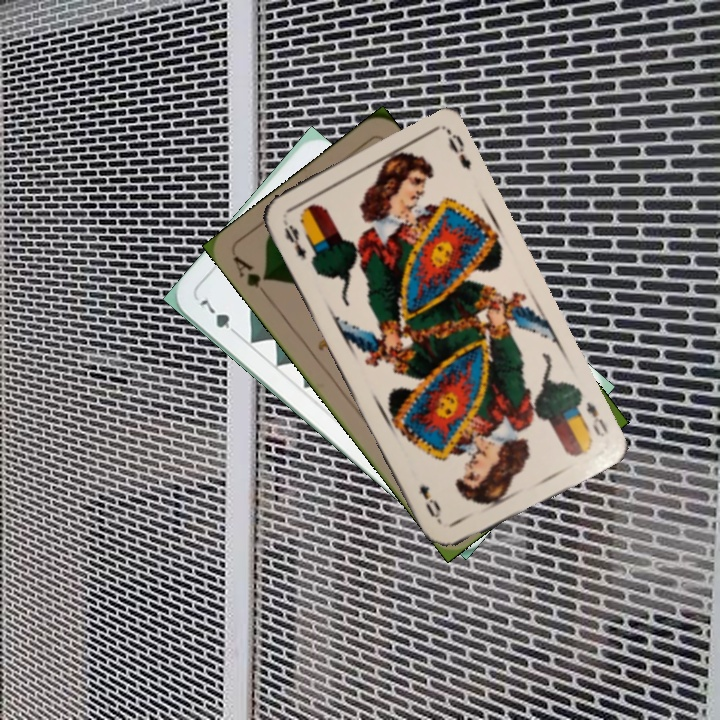EO: (278, 215, 310, 262), (582, 398, 611, 440)
G7: (195, 295, 242, 338)
GA: (229, 251, 271, 302)
